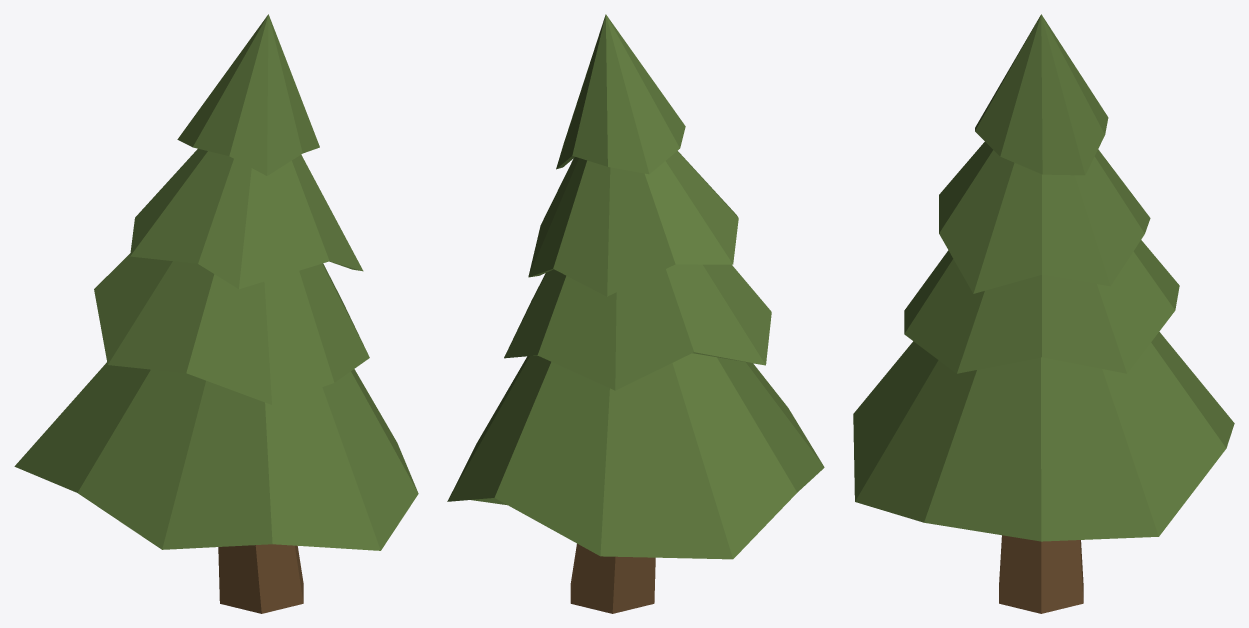
Rendered from Tree_05 2.glb.
The picture shows the model from 3 angles, left to right: view 1: azimuth 30°, elevation 25°; view 2: azimuth 150°, elevation 25°; view 3: azimuth 270°, elevation 25°; orthographic projection.
Visible parts, largest first — view 1: Tree_05_LOD0; view 2: Tree_05_LOD0; view 3: Tree_05_LOD0.
Part boxes in pixels (x1,y1,x2,y2): Tree_05_LOD0: (14,14,418,613); Tree_05_LOD0: (447,14,824,613); Tree_05_LOD0: (853,14,1234,613).
Size of what is drawn, in the model's own units: 2.13 by 3.67 by 2.18.
1 material, 1 textured.
